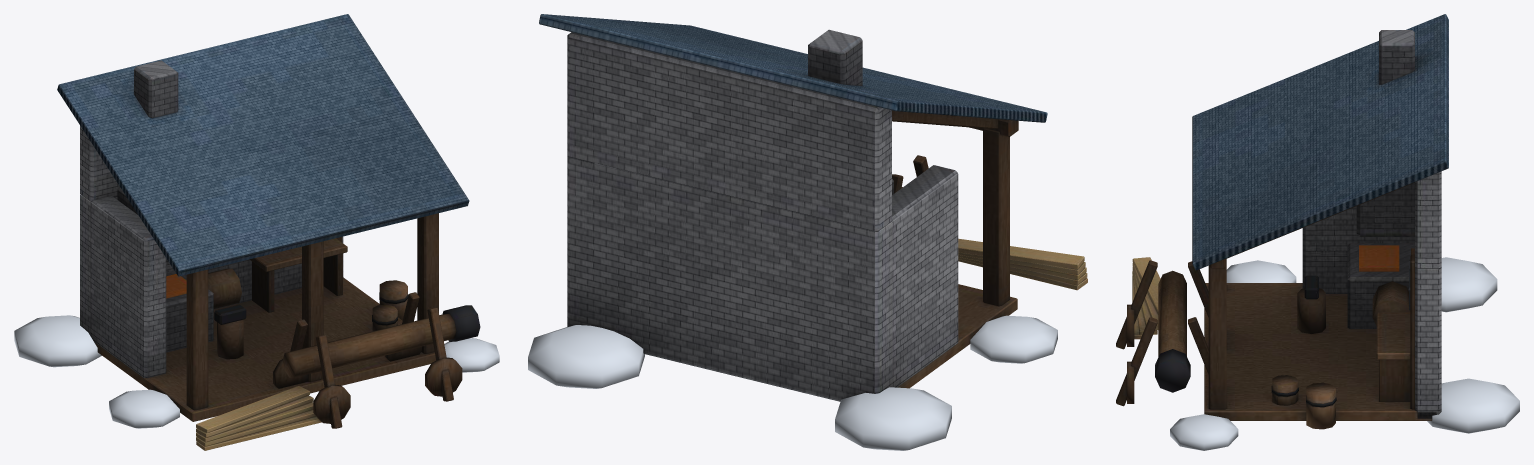
The model's file is wacht_workshop.glb.
3 views of the same model, side by side, from view 1: azimuth 30°, elevation 25°; view 2: azimuth 150°, elevation 25°; view 3: azimuth 270°, elevation 25° (orthographic). The views are drawn at different scales.
Visible parts, largest first — view 1: wacht_workshop, Schnee; view 2: wacht_workshop, Schnee; view 3: wacht_workshop, Schnee.
Boxes of the visible parts, x1,y1,x2,y2 form: wacht_workshop: (57, 14, 480, 450); Schnee: (14, 315, 499, 428); wacht_workshop: (539, 14, 1087, 401); Schnee: (528, 315, 1057, 450); wacht_workshop: (1116, 14, 1448, 429); Schnee: (1170, 257, 1519, 450).
Size of the model in its own units: 4.85 by 3.72 by 4.5.
2 materials, 1 textured.
